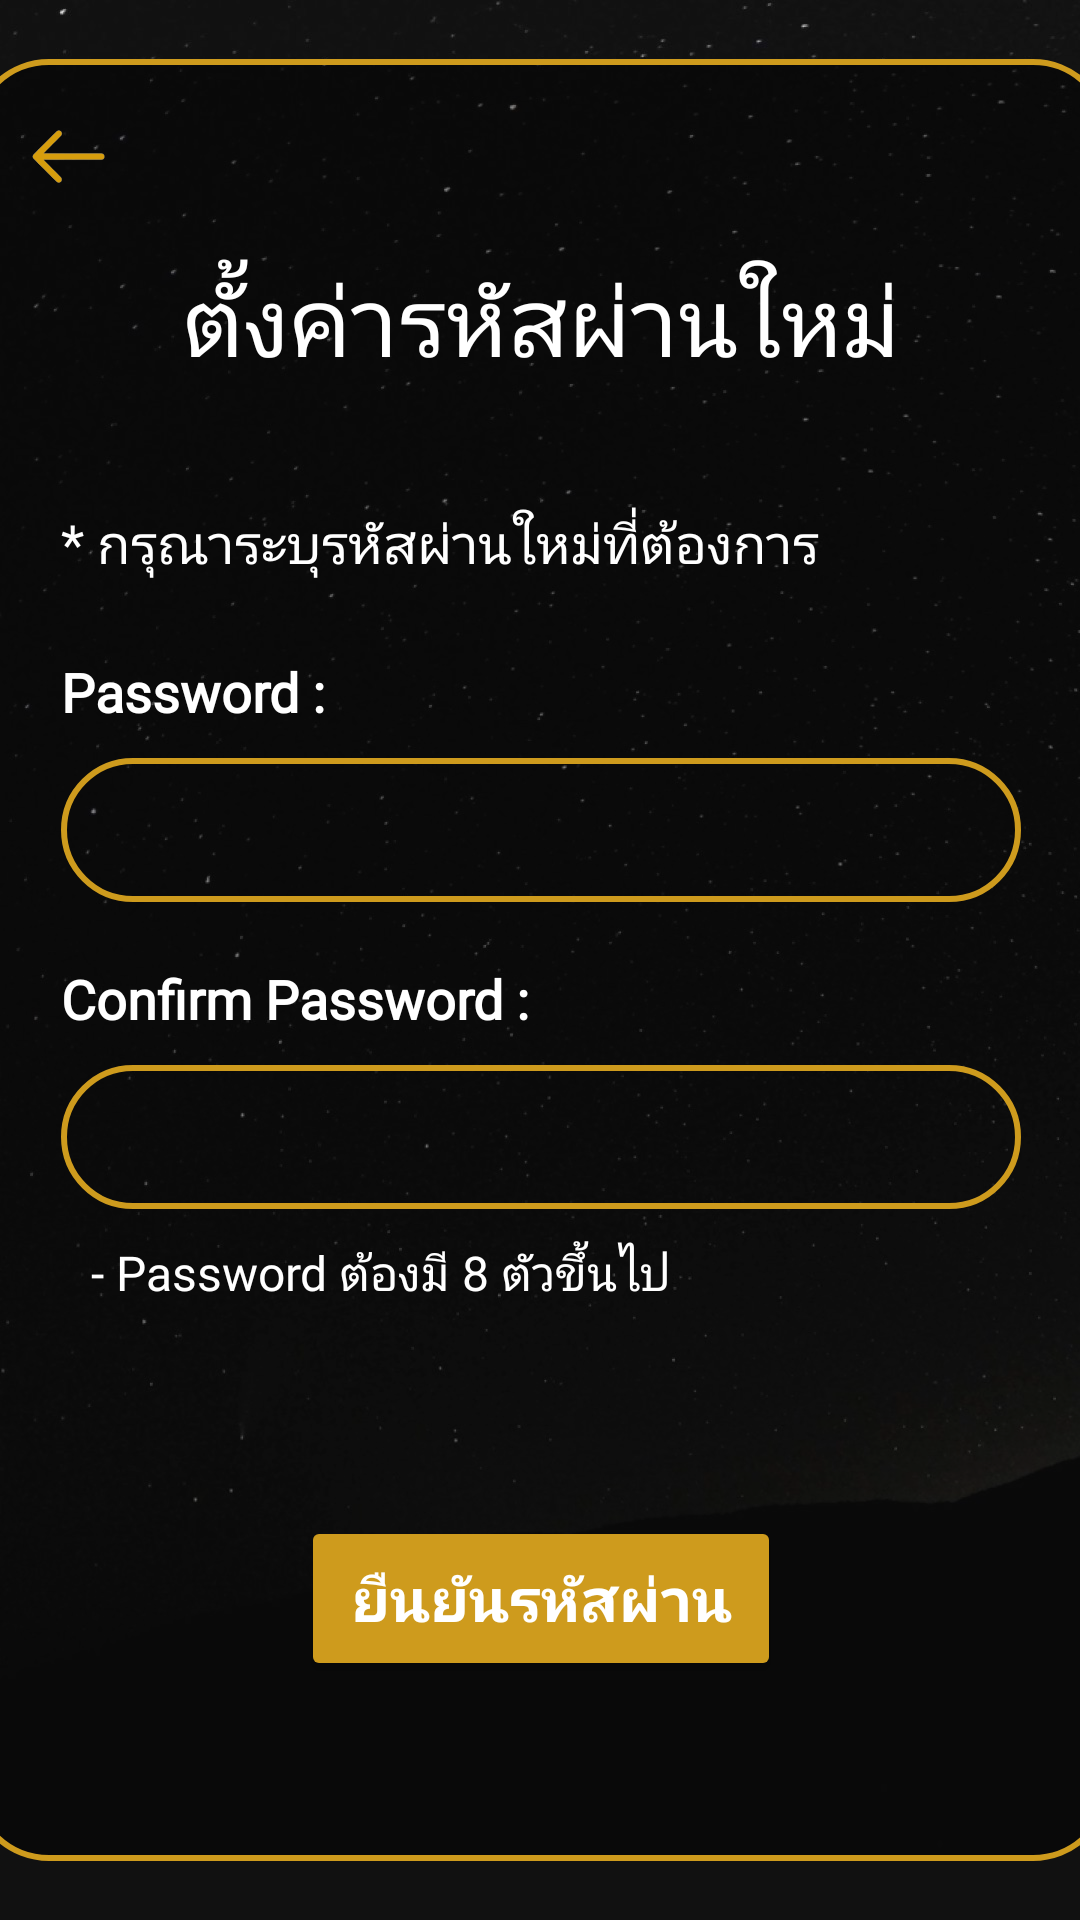

Screen size 1080 × 1920. Icon name, then its center in pixels as [x,y]:
back: [68,156]
